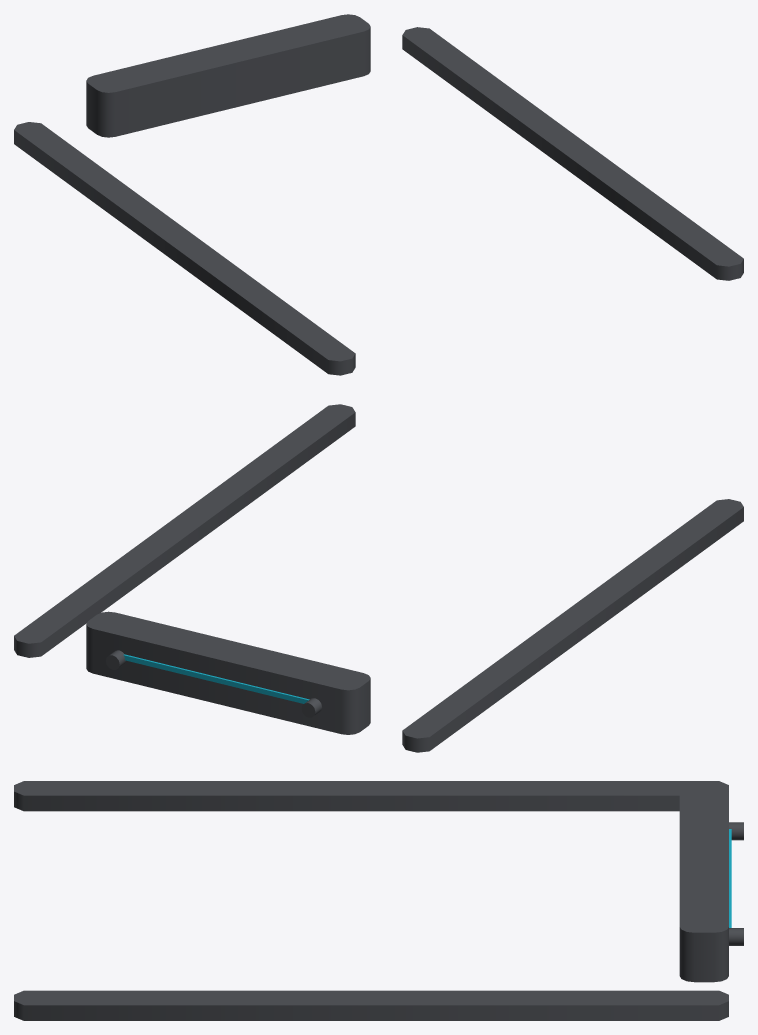
File: c1_mount.obj
3 views of the same model, one above another, from view 1: azimuth 30°, elevation 25°; view 2: azimuth 150°, elevation 25°; view 3: azimuth 270°, elevation 25° (orthographic). The views are drawn at different scales.
Visible parts, largest first — view 1: c1_mount; view 2: c1_mount; view 3: c1_mount.
Part boxes in pixels (bbox=[...]): c1_mount: bbox=[14, 14, 743, 375]; c1_mount: bbox=[14, 404, 743, 752]; c1_mount: bbox=[14, 781, 743, 1020].
Size of the model in its own units: 1.07 by 0.11 by 1.47.
